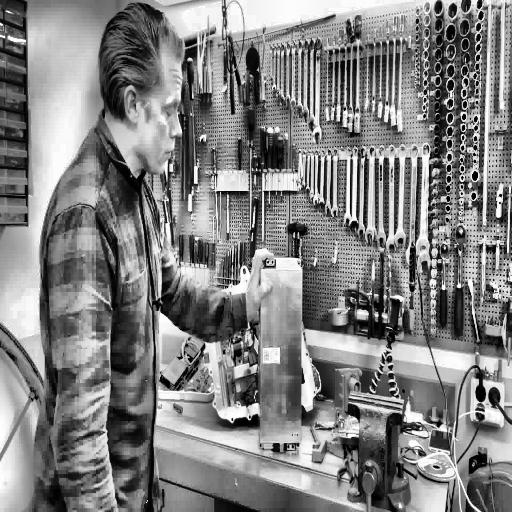battery_module: (260, 266, 302, 442)
